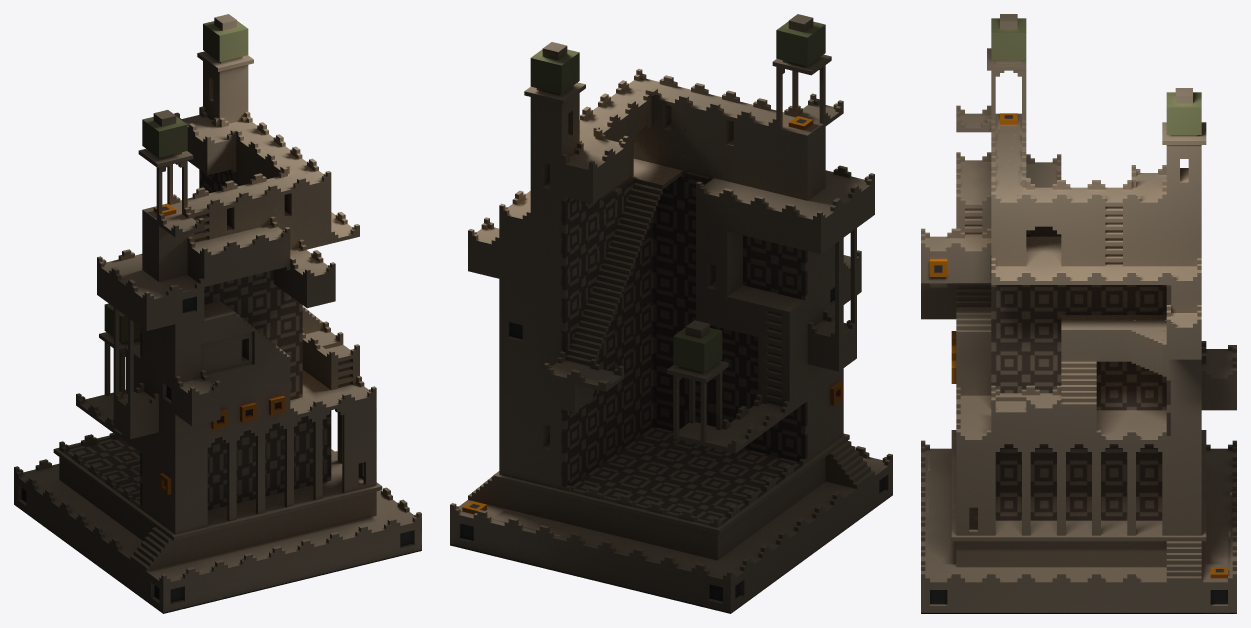
3 renders of one model, left to right at view 1: azimuth 30°, elevation 25°; view 2: azimuth 150°, elevation 25°; view 3: azimuth 270°, elevation 25°, orthographic. The views are drawn at different scales.
Parts seen in each view (by area): view 1: monu10; view 2: monu10; view 3: monu10.
Boxes of the visible parts, x1,y1,x2,y2 form: monu10: (14, 14, 421, 613); monu10: (450, 14, 892, 613); monu10: (921, 14, 1236, 613).
Size of what is drawn, in the model's own units: 7.2 by 12.2 by 7.2.
Materials: 1 (1 with a texture image).
